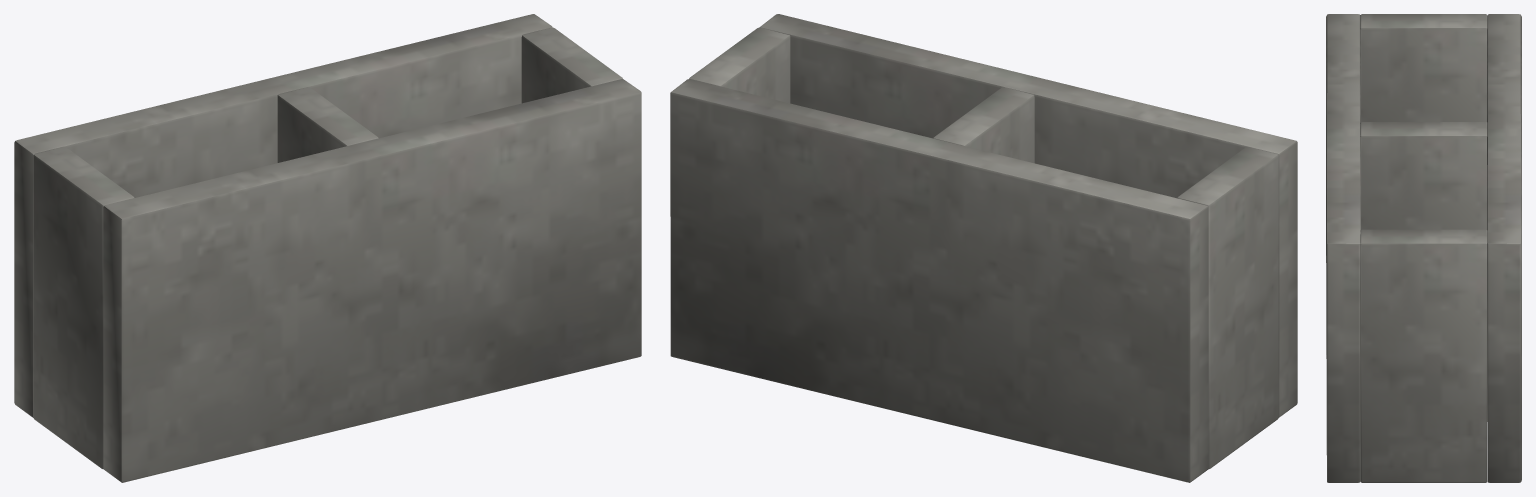
File: ALV-BCO-001_lod1.glb
3 renders of one model, left to right at view 1: azimuth 30°, elevation 25°; view 2: azimuth 150°, elevation 25°; view 3: azimuth 270°, elevation 25°, orthographic. The views are drawn at different scales.
Parts seen in each view (by area): view 1: ALV-BCO-001_pf1, ALV-BCO-001_pf2, ALV-BCO-001_t0, ALV-BCO-001_t2, ALV-BCO-001_t1; view 2: ALV-BCO-001_pf2, ALV-BCO-001_pf1, ALV-BCO-001_t0, ALV-BCO-001_t1, ALV-BCO-001_t2; view 3: ALV-BCO-001_t2, ALV-BCO-001_pf2, ALV-BCO-001_pf1, ALV-BCO-001_t1, ALV-BCO-001_t0.
Boxes of the visible parts, x1=… form: ALV-BCO-001_pf1: x1=103, y1=79, x2=641, y2=482; ALV-BCO-001_pf2: x1=14, y1=14, x2=552, y2=417; ALV-BCO-001_t0: x1=33, y1=146, x2=134, y2=469; ALV-BCO-001_t2: x1=521, y1=27, x2=622, y2=103; ALV-BCO-001_t1: x1=277, y1=87, x2=378, y2=162; ALV-BCO-001_pf2: x1=670, y1=79, x2=1208, y2=482; ALV-BCO-001_pf1: x1=759, y1=14, x2=1297, y2=417; ALV-BCO-001_t0: x1=1177, y1=146, x2=1278, y2=469; ALV-BCO-001_t1: x1=933, y1=87, x2=1034, y2=163; ALV-BCO-001_t2: x1=689, y1=27, x2=790, y2=103; ALV-BCO-001_t2: x1=1360, y1=229, x2=1487, y2=482; ALV-BCO-001_pf2: x1=1487, y1=14, x2=1521, y2=482; ALV-BCO-001_pf1: x1=1326, y1=14, x2=1360, y2=482; ALV-BCO-001_t1: x1=1360, y1=122, x2=1487, y2=229; ALV-BCO-001_t0: x1=1360, y1=14, x2=1487, y2=121.
Bounding box in the file's own units: 0.39 × 0.19 × 0.14.
1 material, 1 textured.
